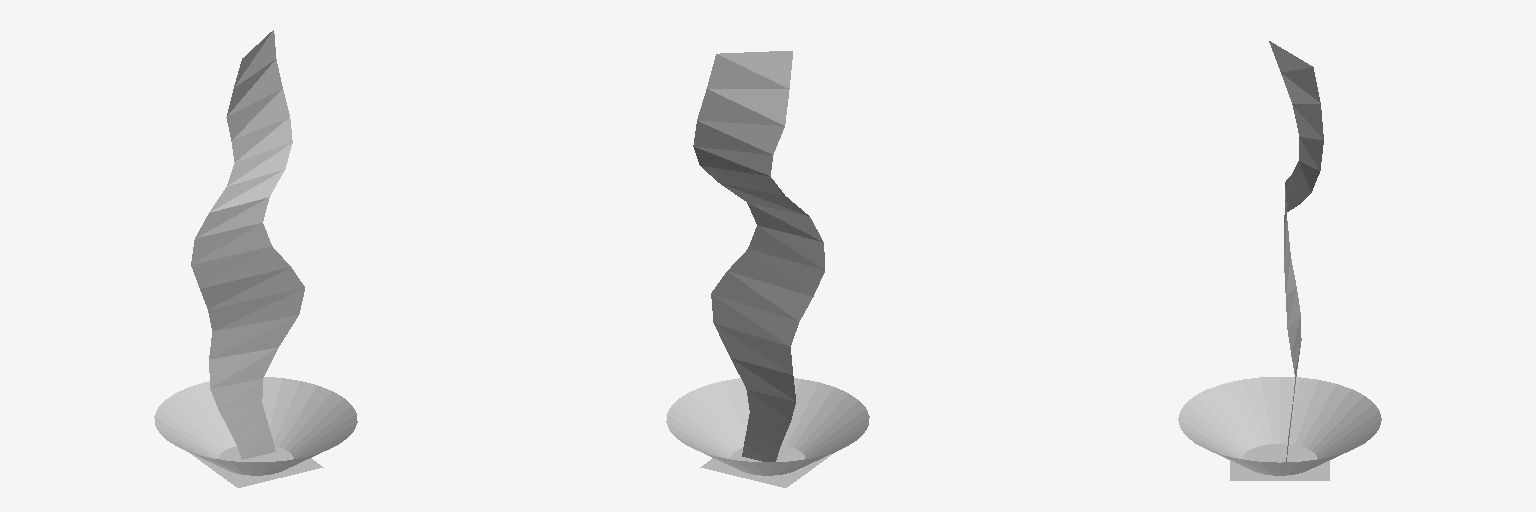
Rendered from ThunderMesh.mtl.obj.
3 views of the same model, side by side, from view 1: azimuth 30°, elevation 25°; view 2: azimuth 150°, elevation 25°; view 3: azimuth 270°, elevation 25° (orthographic).
Visible parts, largest first — view 1: Bolt; view 2: Bolt; view 3: Bolt.
Part boxes in pixels (x1,y1,x2,y2): Bolt: (154,30,357,487); Bolt: (666,51,869,487); Bolt: (1178,41,1381,480).
Bounding box in the file's own units: 5.95 × 13.29 × 5.95.